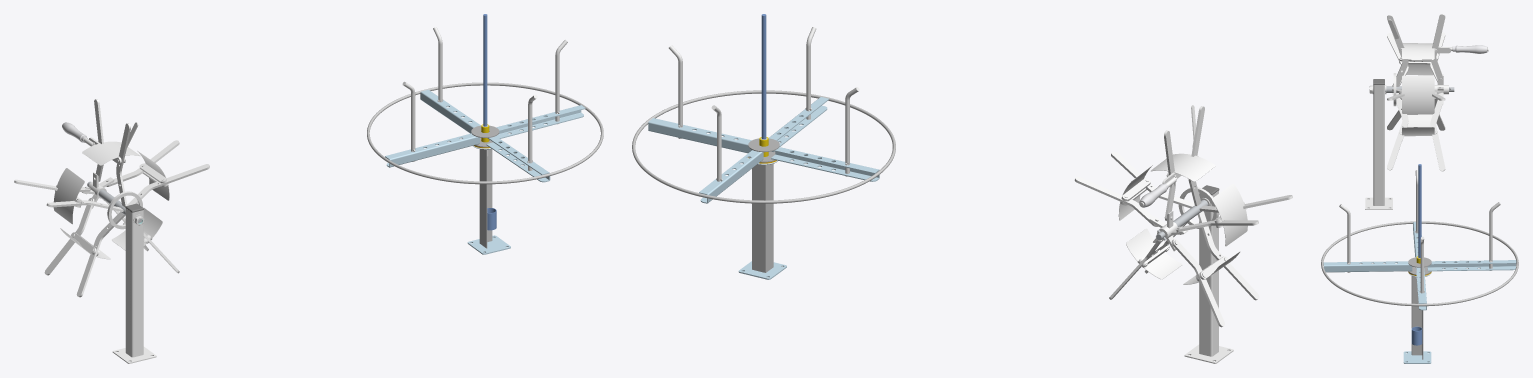
3 renders of one model, left to right at view 1: azimuth 30°, elevation 25°; view 2: azimuth 150°, elevation 25°; view 3: azimuth 270°, elevation 25°, orthographic. The views are drawn at different scales.
Parts seen in each view (by area): view 1: Stand - U Chanell (×4), ÃÂÃÂÃÂÃÂ§ÃÂÃÂ¼ÃÂÃÂ-16S, ÃÂÃÂÃÂÃÂ¤ÃÂÃÂ°ÃÂÃÂ¥-12S (×3), Stand - External Ring 0.313, ÃÂÃÂ¹ÃÂÃÂÃÂÃÂ¶ÃÂÃÂ¨ÃÂÃÂµÃÂÃÂ²ÃÂÃÂ°ÃÂÃÂ¥-12S (×3), Stand - Base Angle 1.5x1.5x0.125, Stand - Center Galvanized Bar 0.438, ÃÂÃÂ»ÃÂÃÂ®ÃÂÃÂ¶ÃÂÃÂ¯ÃÂÃÂµÃÂÃÂ²ÃÂÃÂ°ÃÂÃÂ¥-12S; view 2: Stand - U Chanell (×4), ÃÂÃÂÃÂÃÂ¤ÃÂÃÂ°ÃÂÃÂ¥-12S (×3), ÃÂÃÂÃÂÃÂ§ÃÂÃÂ¼ÃÂÃÂ-16S, Stand - Base Angle 1.5x1.5x0.125, Stand - External Ring 0.313, ÃÂÃÂ»ÃÂÃÂ®ÃÂÃÂ¶ÃÂÃÂ¯ÃÂÃÂµÃÂÃÂ²ÃÂÃÂ°ÃÂÃÂ¥-12S (×2), ÃÂÃÂ¹ÃÂÃÂÃÂÃÂ¶ÃÂÃÂ¨ÃÂÃÂµÃÂÃÂ²ÃÂÃÂ°ÃÂÃÂ¥-12S (×2), Stand - Center Galvanized Bar 0.438; view 3: ÃÂÃÂÃÂÃÂ¤ÃÂÃÂ°ÃÂÃÂ¥-12S (×5), Stand - U Chanell (×3), ÃÂÃÂÃÂÃÂ§ÃÂÃÂ¼ÃÂÃÂ-16S, Stand - External Ring 0.313, ÃÂÃÂ¹ÃÂÃÂÃÂÃÂ¶ÃÂÃÂ¨ÃÂÃÂµÃÂÃÂ²ÃÂÃÂ°ÃÂÃÂ¥-12S (×3), Stand - Bent Galvanized Bar 0.438 (×4), ÃÂÃÂ»ÃÂÃÂ®ÃÂÃÂ¶ÃÂÃÂ¯ÃÂÃÂµÃÂÃÂ²ÃÂÃÂ°ÃÂÃÂ¥-12S (×2), Stand - Base Angle 1.5x1.5x0.125, Stand - Center Galvanized Bar 0.438, Stand - Base Plate 3.5x3.5x0.125, ÃÂÃÂÃÂÃÂÃÂÃÂ±ÃÂÃÂº-12S, Stand - Tube Holder 1.375x0.0625.
Part boxes in pixels (x1,y1,x2,y2): Stand - U Chanell (×4): (385, 89, 585, 182); ÃÂÃÂÃÂÃÂ§ÃÂÃÂ¼ÃÂÃÂ-16S: (112, 208, 156, 363); ÃÂÃÂÃÂÃÂ¤ÃÂÃÂ°ÃÂÃÂ¥-12S (×3): (53, 141, 162, 250); Stand - External Ring 0.313: (367, 82, 603, 184); ÃÂÃÂ¹ÃÂÃÂÃÂÃÂ¶ÃÂÃÂ¨ÃÂÃÂµÃÂÃÂ²ÃÂÃÂ°ÃÂÃÂ¥-12S (×3): (76, 123, 209, 297); Stand - Base Angle 1.5x1.5x0.125: (479, 149, 492, 248); Stand - Center Galvanized Bar 0.438: (483, 14, 487, 126); ÃÂÃÂ»ÃÂÃÂ®ÃÂÃÂ¶ÃÂÃÂ¯ÃÂÃÂµÃÂÃÂ²ÃÂÃÂ°ÃÂÃÂ¥-12S: (44, 197, 94, 275); Stand - U Chanell (×4): (648, 97, 879, 203); ÃÂÃÂÃÂÃÂ¤ÃÂÃÂ°ÃÂÃÂ¥-12S (×3): (1126, 153, 1247, 279); ÃÂÃÂÃÂÃÂ§ÃÂÃÂ¼ÃÂÃÂ-16S: (1184, 190, 1233, 363); Stand - Base Angle 1.5x1.5x0.125: (752, 164, 773, 272); Stand - External Ring 0.313: (632, 90, 895, 203); ÃÂÃÂ»ÃÂÃÂ®ÃÂÃÂ¶ÃÂÃÂ¯ÃÂÃÂµÃÂÃÂ²ÃÂÃÂ°ÃÂÃÂ¥-12S (×2): (1074, 176, 1224, 327); ÃÂÃÂ¹ÃÂÃÂÃÂÃÂ¶ÃÂÃÂ¨ÃÂÃÂµÃÂÃÂ²ÃÂÃÂ°ÃÂÃÂ¥-12S (×2): (1188, 106, 1259, 300); Stand - Center Galvanized Bar 0.438: (761, 14, 766, 139); ÃÂÃÂÃÂÃÂ¤ÃÂÃÂ°ÃÂÃÂ¥-12S (×5): (1402, 43, 1434, 136); Stand - U Chanell (×3): (1323, 260, 1516, 310); ÃÂÃÂÃÂÃÂ§ÃÂÃÂ¼ÃÂÃÂ-16S: (1365, 85, 1392, 209); Stand - External Ring 0.313: (1321, 221, 1518, 306); ÃÂÃÂ¹ÃÂÃÂÃÂÃÂ¶ÃÂÃÂ¨ÃÂÃÂµÃÂÃÂ²ÃÂÃÂ°ÃÂÃÂ¥-12S (×3): (1387, 15, 1408, 170); Stand - Bent Galvanized Bar 0.438 (×4): (1339, 170, 1500, 293); ÃÂÃÂ»ÃÂÃÂ®ÃÂÃÂ¶ÃÂÃÂ¯ÃÂÃÂµÃÂÃÂ²ÃÂÃÂ°ÃÂÃÂ¥-12S (×2): (1430, 14, 1445, 171); Stand - Base Angle 1.5x1.5x0.125: (1411, 276, 1423, 359); Stand - Center Galvanized Bar 0.438: (1418, 164, 1421, 257); Stand - Base Plate 3.5x3.5x0.125: (1403, 351, 1431, 363); ÃÂÃÂÃÂÃÂÃÂÃÂ±ÃÂÃÂº-12S: (1452, 45, 1487, 53); Stand - Tube Holder 1.375x0.0625: (1411, 326, 1422, 345).
Bounding box in the file's own units: 1.74 × 0.6858 × 0.6395.
